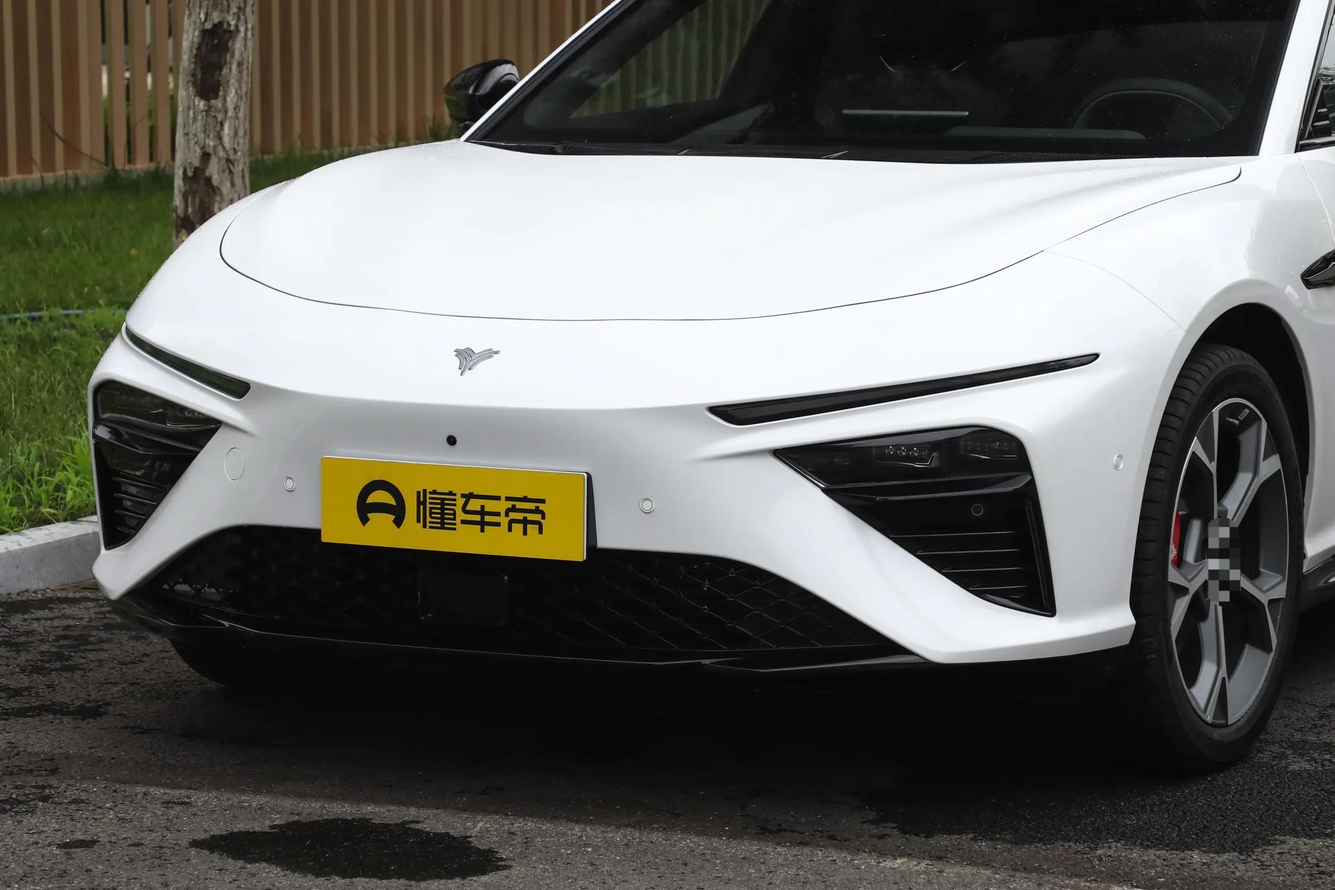NETA: (452, 347, 502, 376)
